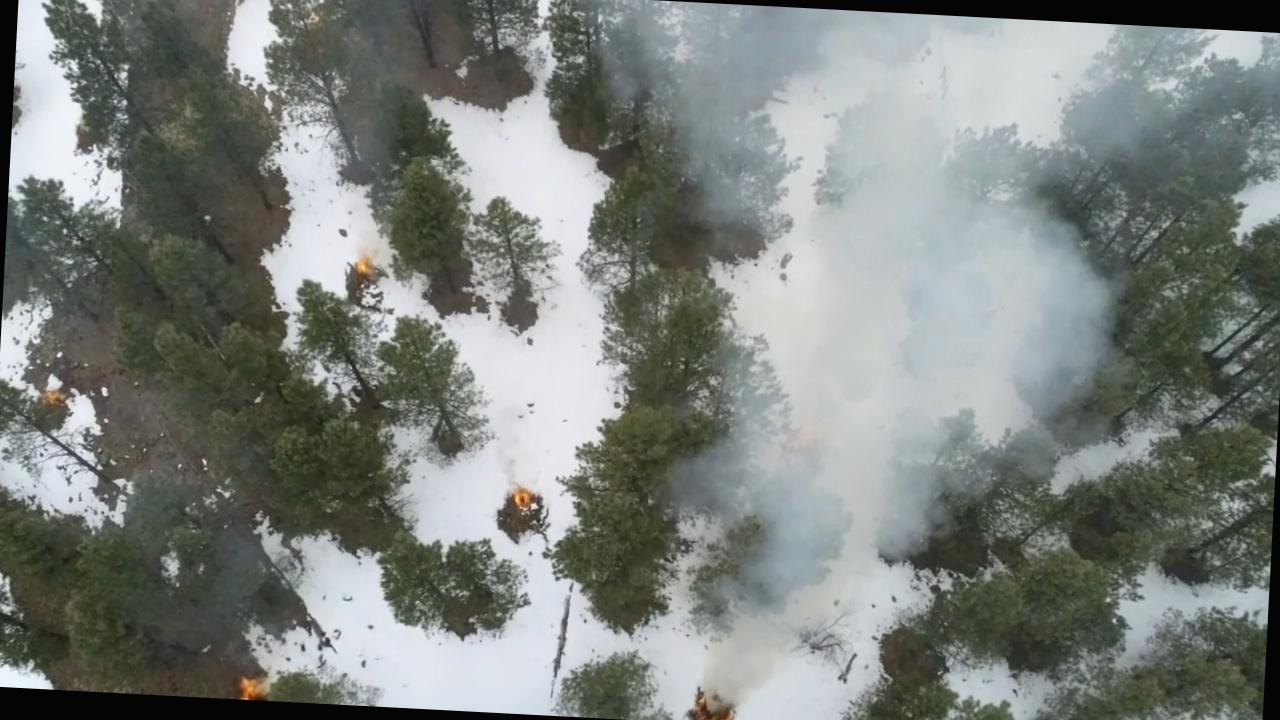fire: (685, 680, 744, 720), (502, 473, 536, 509), (347, 246, 377, 271), (233, 674, 257, 701)
smoke: (592, 0, 1269, 300), (661, 274, 1108, 570)
